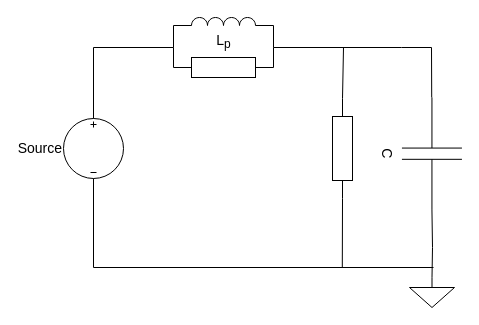
This 479x325 diagram has some shape labels left out. The shapes that lost their labels are listed below. From the top down, each one's centre as x and y in pixels, then its label:
point (223, 67): R c
point (342, 148): R p
